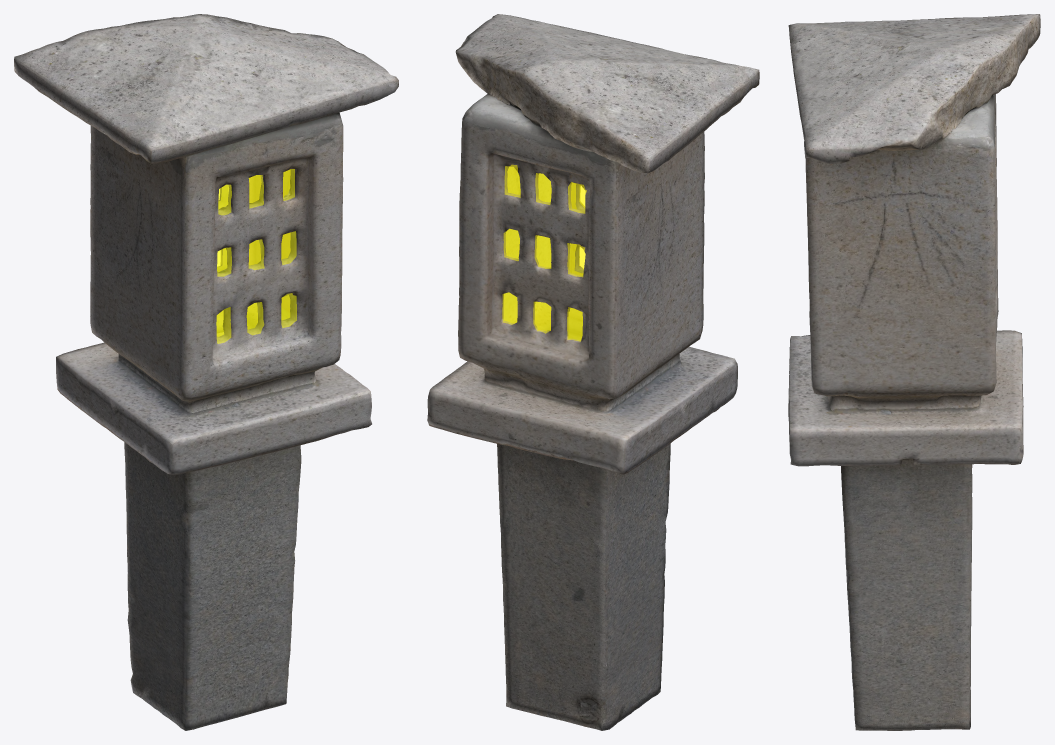
The model's file is toro.glb.
3 views of the same model, side by side, from view 1: azimuth 30°, elevation 25°; view 2: azimuth 150°, elevation 25°; view 3: azimuth 270°, elevation 25° (orthographic).
Bounding box in the file's own units: 1.14 × 2.65 × 0.9162.
2 materials, 1 textured.
